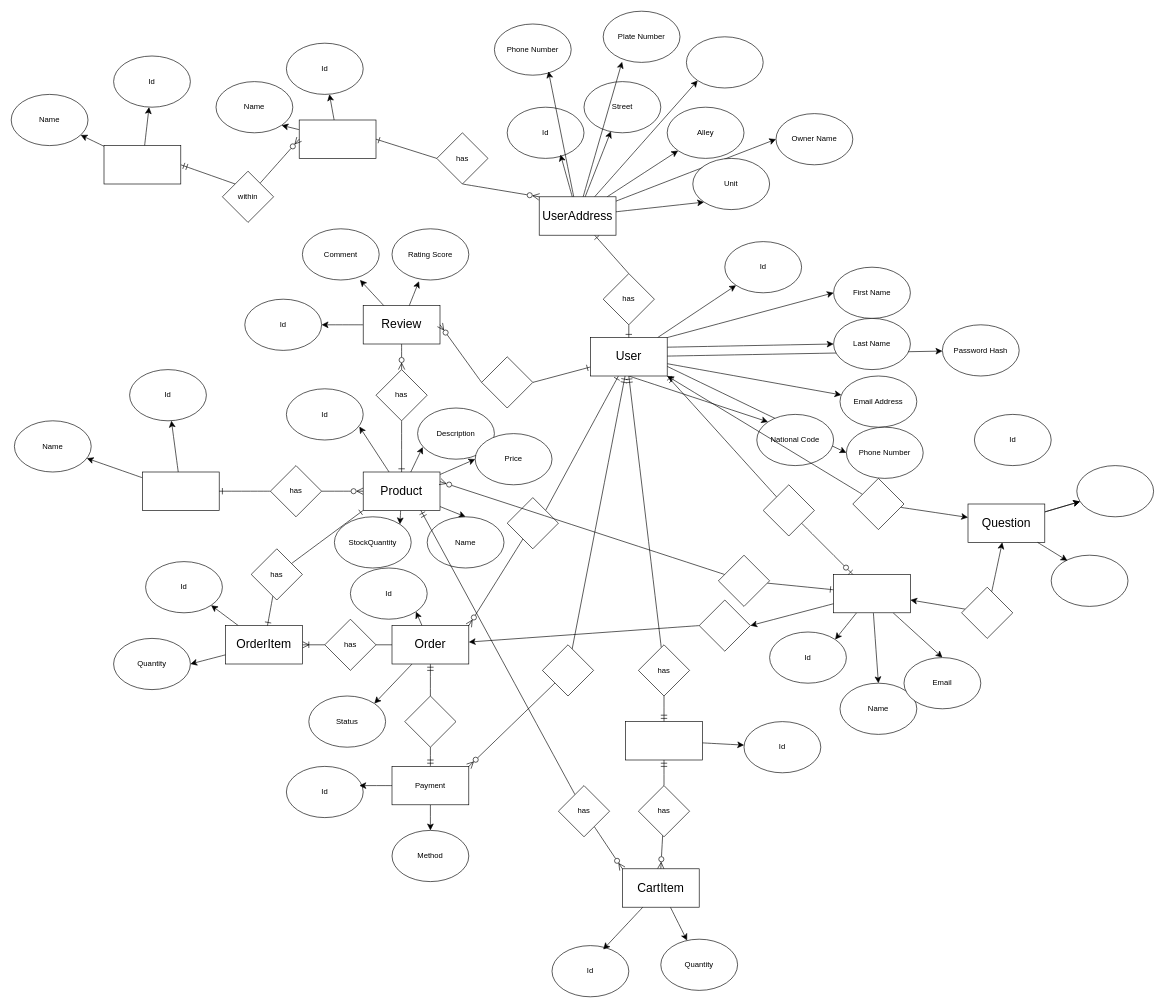
Some shapes in this 1165 by 1008 pixel diagram are drawn without their labels. Each missing label, with the centre of its shape:
"Answer" belongs at [1089,580].
"answers" belongs at [987,612].
"asks" belongs at [878,504].
"Cart" belongs at [663,740].
"Category" belongs at [180,490].
"City" belongs at [337,138].
"confirms" belongs at [724,625].
"is" belongs at [788,510].
"leaves" belongs at [507,382].
"Level" belongs at [724,62].
"makes" belongs at [568,670].
"paid" belongs at [430,721].
"Province" belongs at [142,164].
"purchase" belongs at [532,523].
"Quest" belongs at [1115,491].
"sells" belongs at [744,580].
"Vendor" belongs at [871,593].
